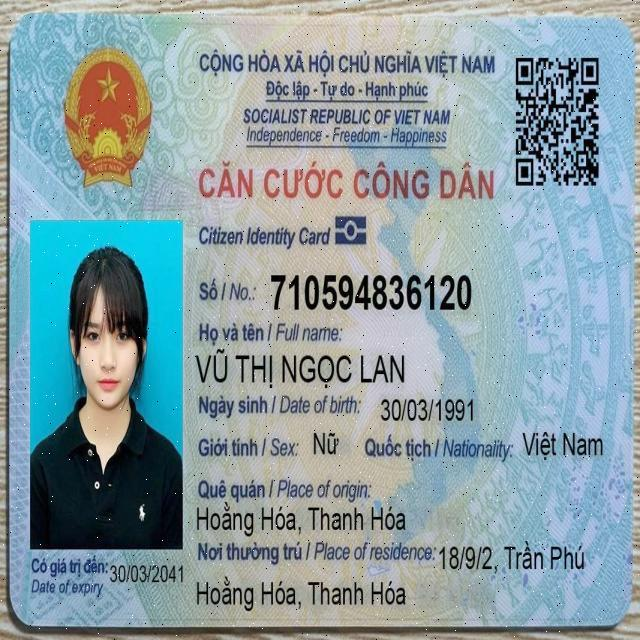current_place: (194, 572, 408, 614), (438, 537, 588, 578)
dob: (378, 395, 477, 428)
expire_date: (108, 562, 185, 588)
gender: (311, 428, 341, 459)
id: (265, 266, 475, 319)
name: (194, 345, 409, 392)
nationality: (520, 428, 605, 464)
origin_place: (194, 497, 408, 539)
qr: (514, 50, 602, 192)
